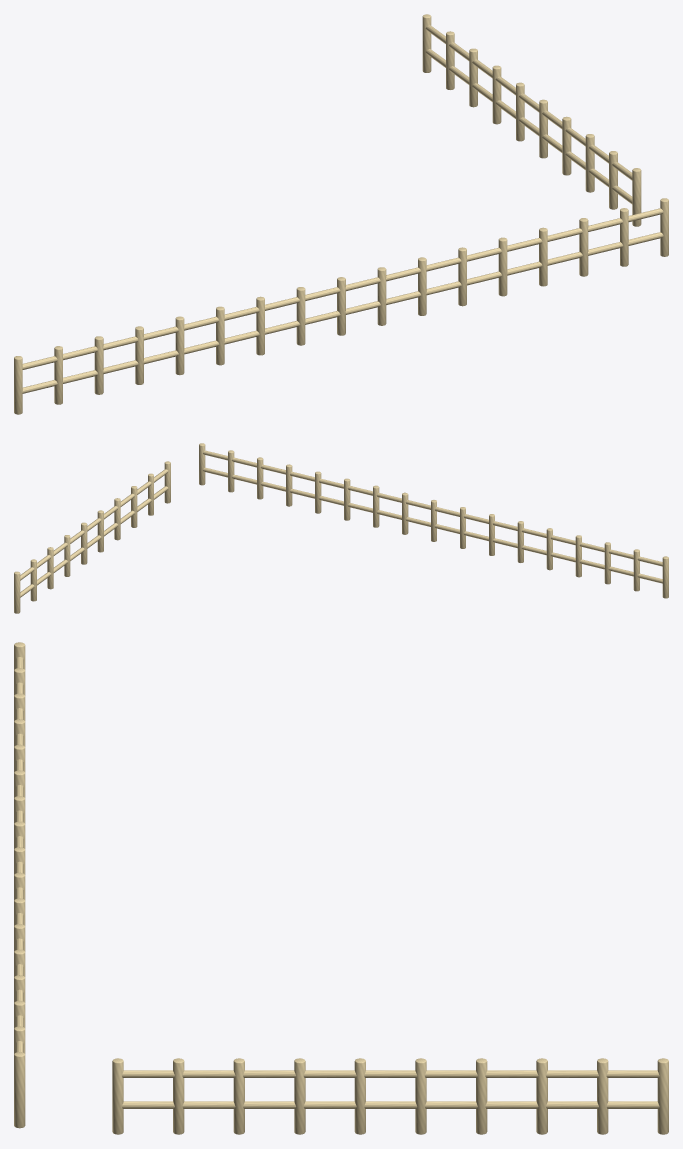
Rendered from Garden_Fences.fbx.
The picture shows the model from 3 angles, top to bottom: view 1: azimuth 30°, elevation 25°; view 2: azimuth 150°, elevation 25°; view 3: azimuth 270°, elevation 25°; orthographic projection. The views are drawn at different scales.
Parts seen in each view (by area): view 1: Garden_Fences; view 2: Garden_Fences; view 3: Garden_Fences.
Boxes of the visible parts, x1,y1,x2,y2 form: Garden_Fences: [14, 14, 668, 414]; Garden_Fences: [14, 443, 668, 613]; Garden_Fences: [14, 642, 668, 1134].
Bounding box in the file's own units: 1315 × 865 × 105.
